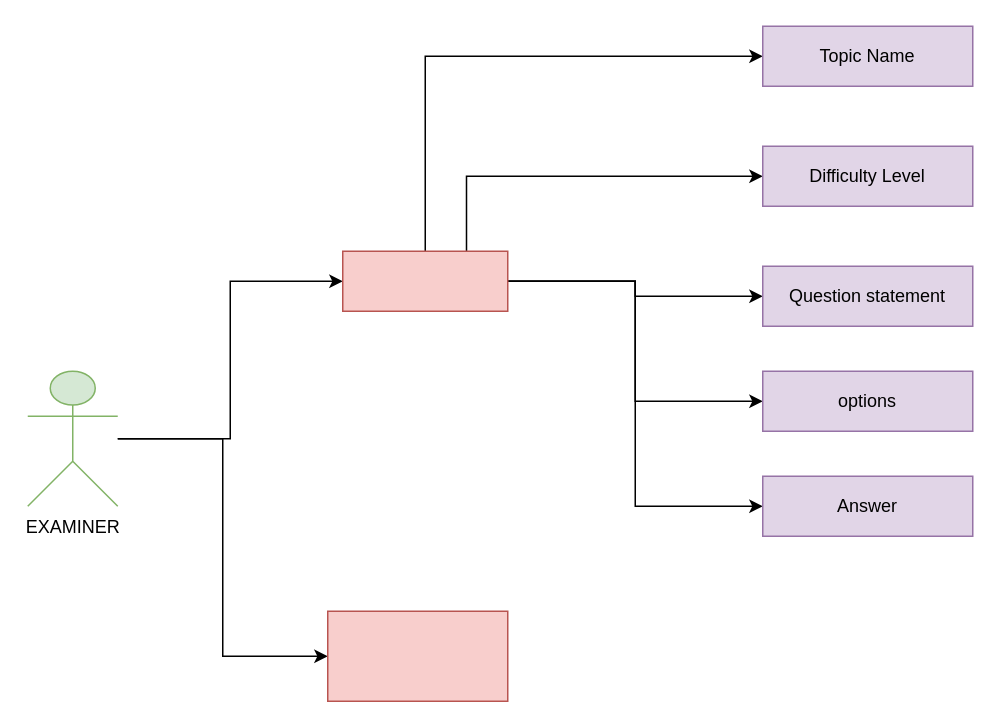
Some shapes in this 999 by 728 pixel diagram are drawn without their labels. The shapes that lost their labels are listed below. From the top down, each one's box as (x1, y1, x2, y2) in pixels, then its label:
(341, 250, 508, 311): AddQuestion
(326, 610, 508, 701): Display all question
